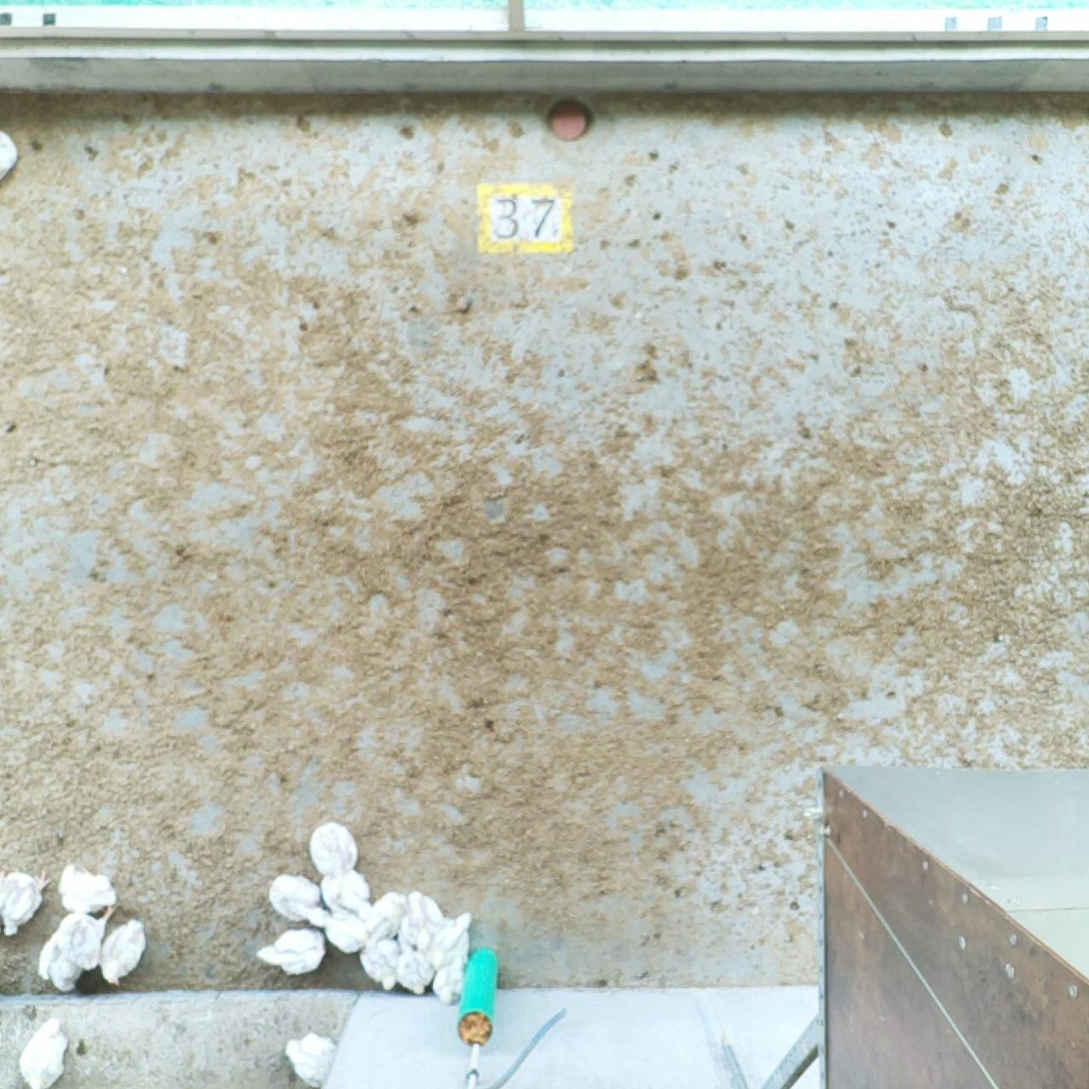chicken: (40, 908, 111, 989), (305, 819, 366, 884), (18, 1021, 71, 1089), (257, 928, 328, 978), (1, 866, 50, 938), (269, 870, 330, 927), (56, 860, 121, 913), (104, 917, 148, 989), (286, 1027, 336, 1086), (425, 915, 476, 966), (368, 892, 413, 943), (322, 873, 373, 917), (405, 887, 442, 945), (317, 915, 371, 954), (358, 936, 396, 987), (396, 944, 431, 989), (434, 965, 466, 1010), (1, 128, 19, 177)
